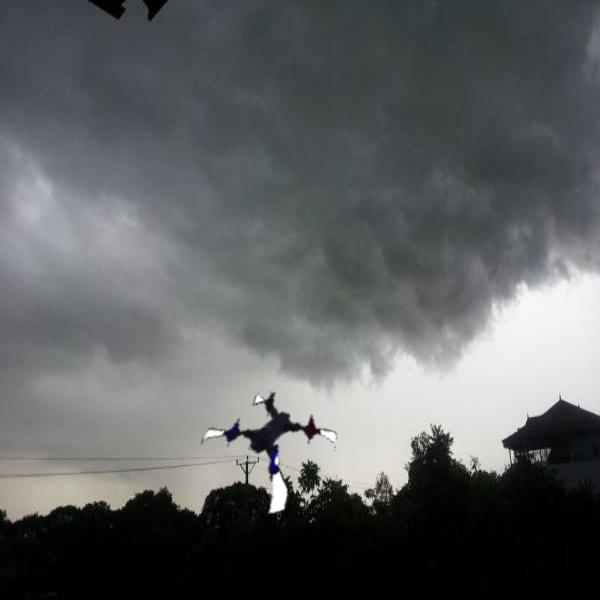drone: (194, 386, 337, 529)
